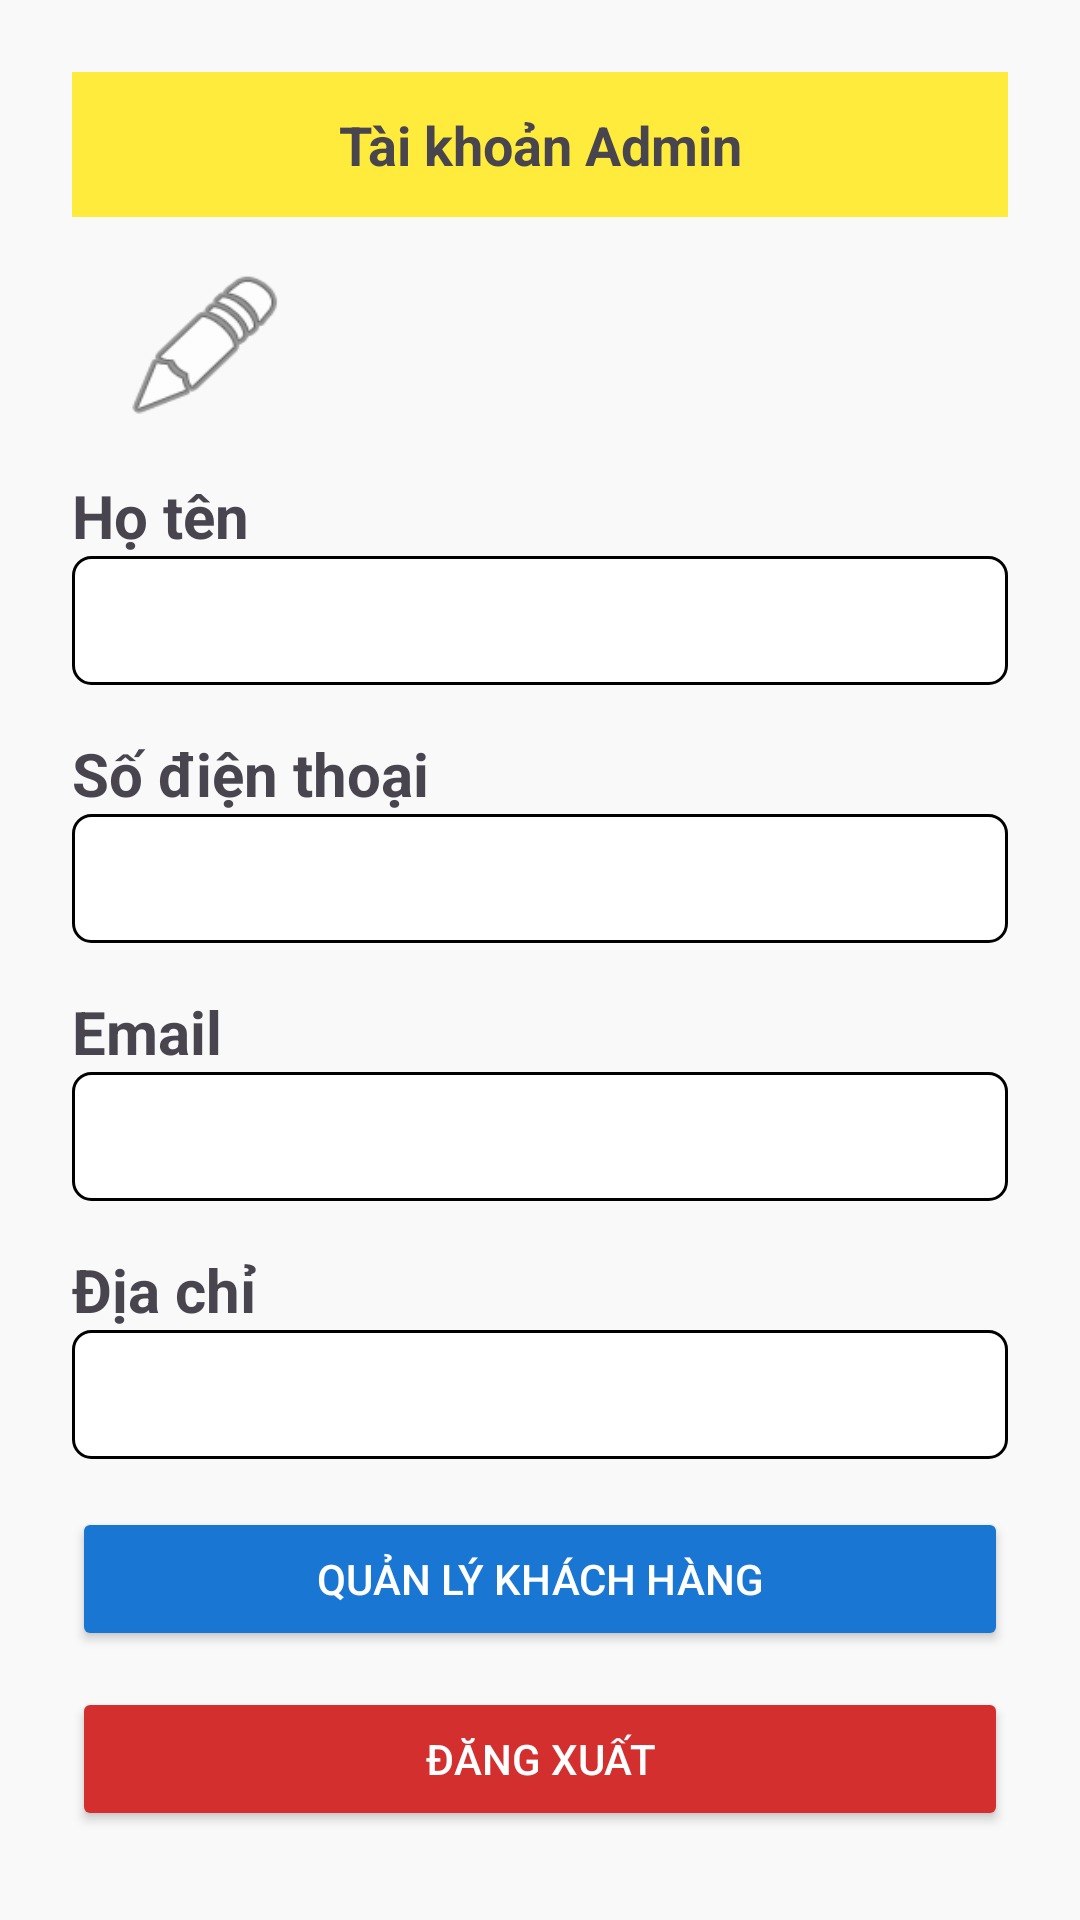

Where icons sit on this 1080×1920 app screen, as BBox(x1, y1, x2, y2):
Sửa thông tin: BBox(132, 276, 277, 414)
